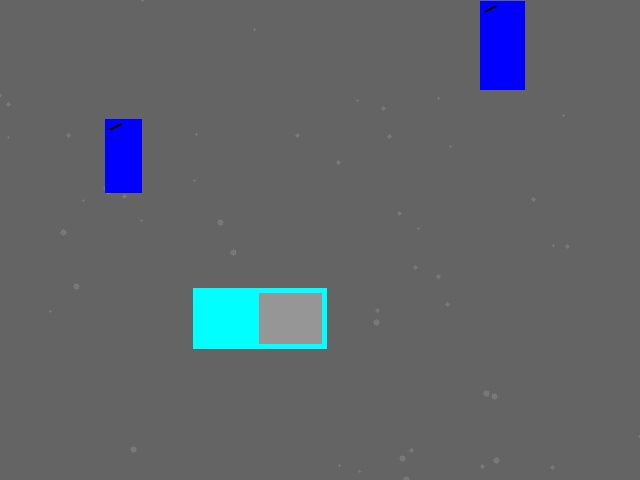motorcycle: (480, 1, 524, 89), (105, 119, 141, 192)
truck: (193, 288, 326, 348)
